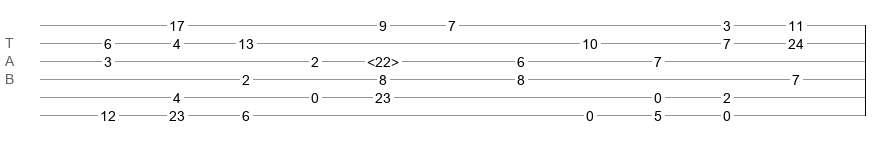0: (311, 90, 319, 100), (586, 108, 594, 118), (654, 90, 662, 100), (723, 108, 731, 118)
10: (582, 36, 598, 46)
11: (788, 18, 804, 28)
12: (100, 108, 116, 118)
13: (238, 36, 254, 46)
17: (169, 18, 185, 28)
2: (242, 72, 250, 82), (311, 54, 319, 64), (723, 90, 731, 100)
23: (169, 108, 185, 118), (375, 90, 391, 100)
24: (788, 36, 804, 46)
3: (104, 54, 112, 64), (723, 18, 731, 28)
4: (173, 90, 181, 100), (173, 36, 181, 46)
5: (654, 108, 662, 118)
6: (104, 36, 112, 46), (242, 108, 250, 118), (517, 54, 525, 64)
7: (448, 18, 456, 28), (654, 54, 662, 64), (723, 36, 731, 46), (792, 72, 800, 82)
8: (379, 72, 387, 82), (517, 72, 525, 82)
9: (379, 18, 387, 28)
harmonic: (367, 54, 399, 64)
